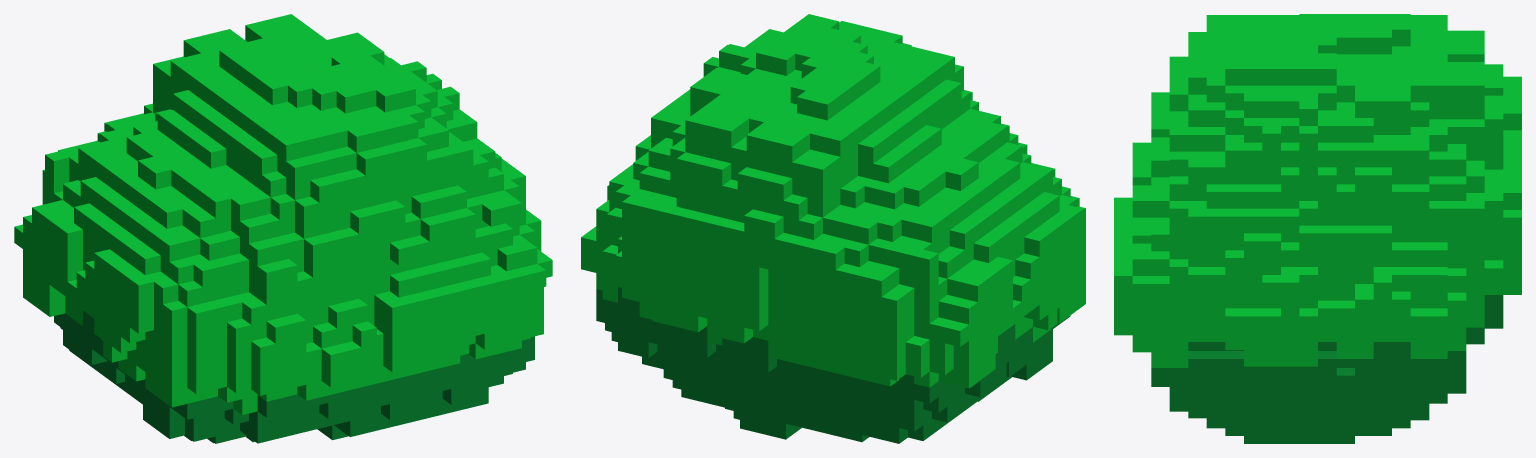
File: canopy_2.glb
3 renders of one model, left to right at view 1: azimuth 30°, elevation 25°; view 2: azimuth 150°, elevation 25°; view 3: azimuth 270°, elevation 25°, orthographic. The views are drawn at different scales.
Parts seen in each view (by area): view 1: canopy_2; view 2: canopy_2; view 3: canopy_2.
Part boxes in pixels (bbox=[...]): canopy_2: bbox=[14, 14, 552, 443]; canopy_2: bbox=[581, 14, 1085, 443]; canopy_2: bbox=[1114, 14, 1521, 443].
Bounding box in the file's own units: 23.4 × 18 × 19.8.
Materials: 1 (1 with a texture image).
